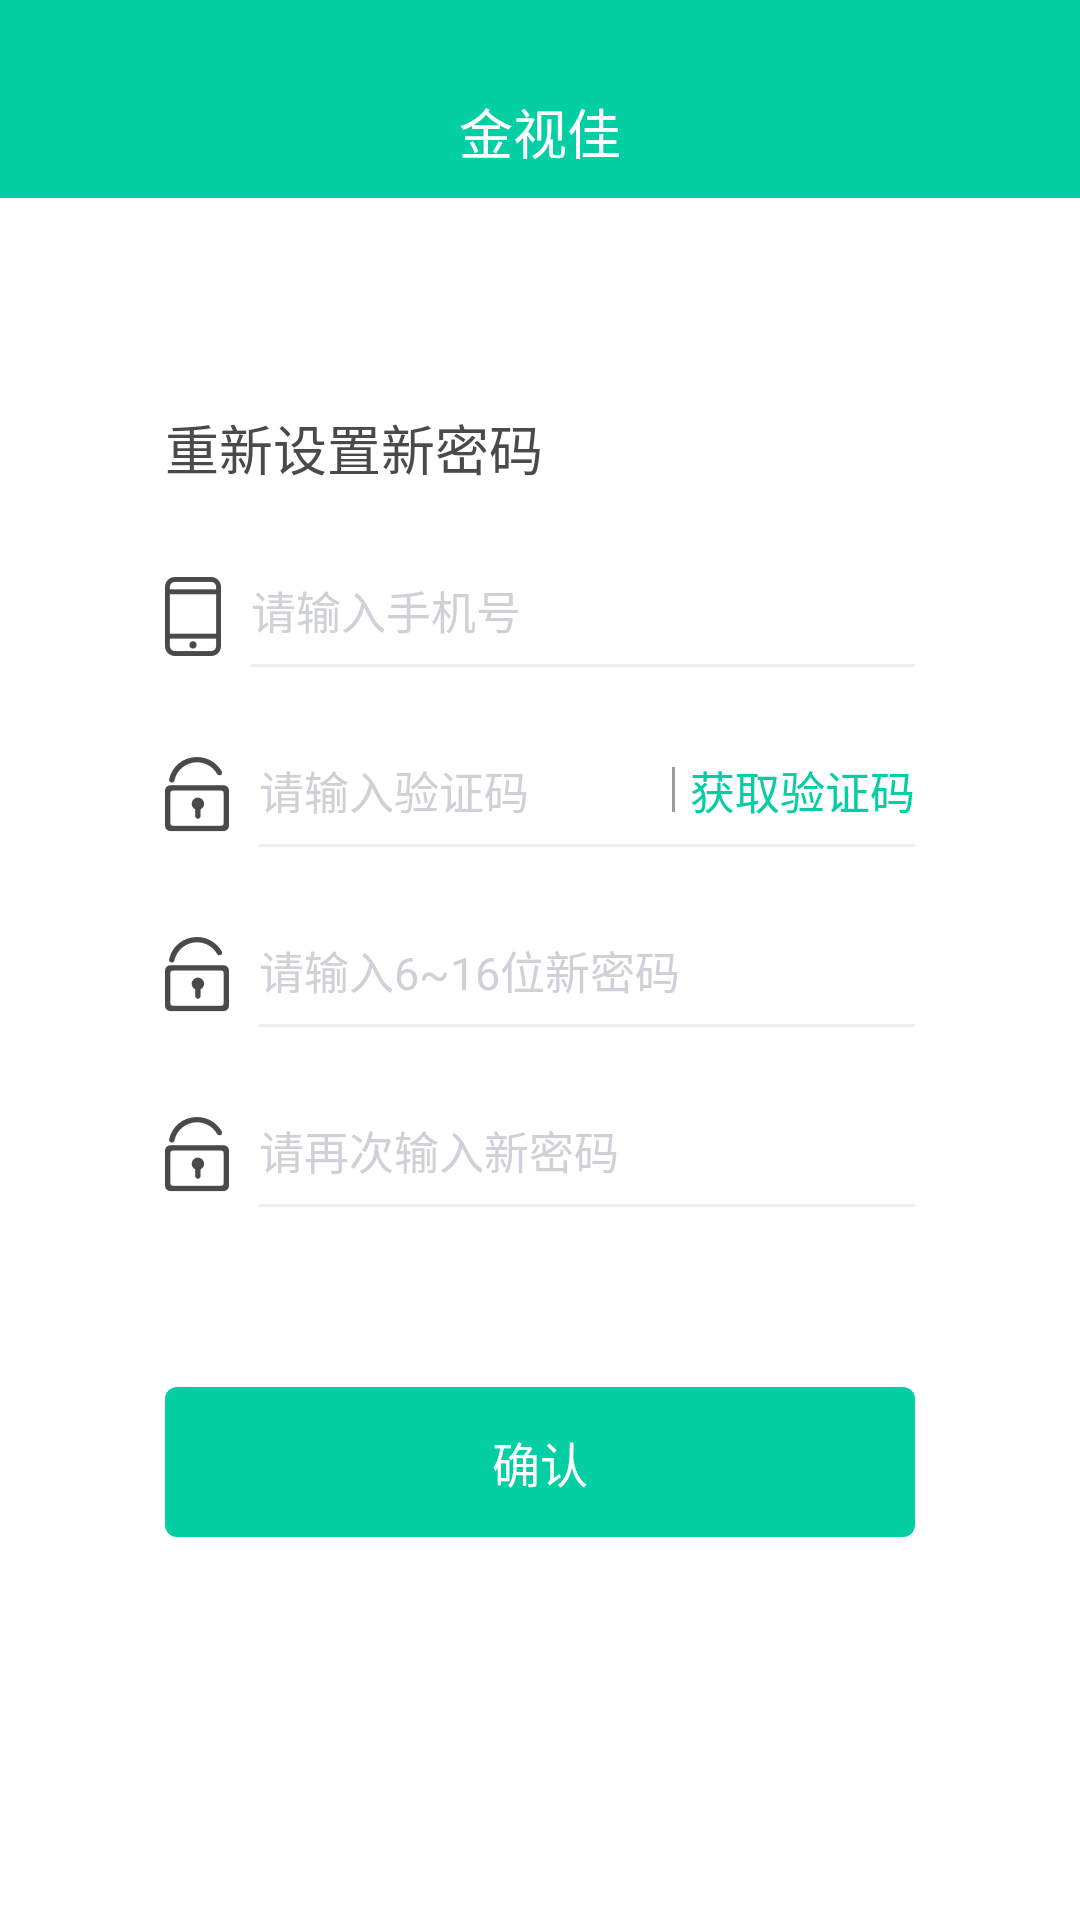

Icons on this 1080×1920 Android screen, each with the point to tap as (x=x, y=y):
login phone: (x=193, y=616)
login pwd: (x=197, y=794), (x=197, y=974), (x=197, y=1154)
